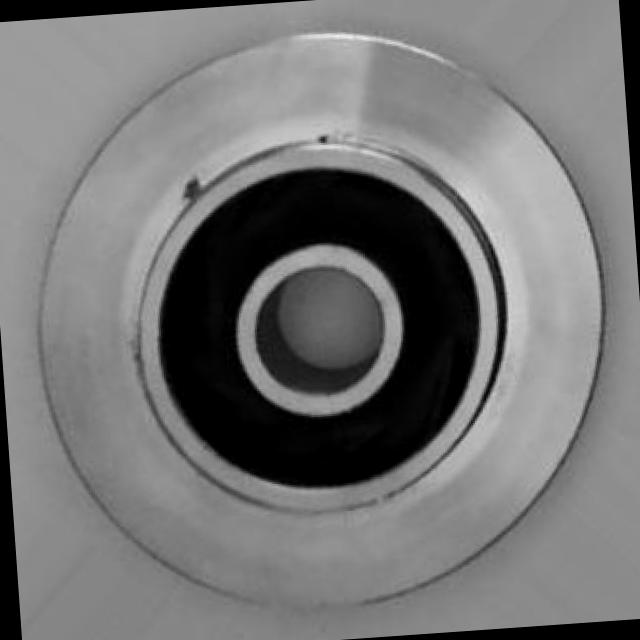Defect: (177, 170, 212, 203)
